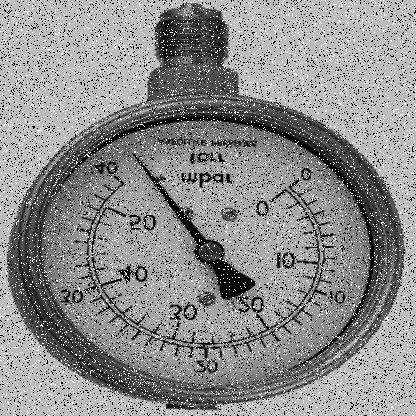needle: (130, 151, 209, 245)
